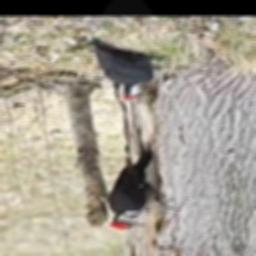Woodpecker: (108, 140, 178, 229), (95, 44, 172, 101)
